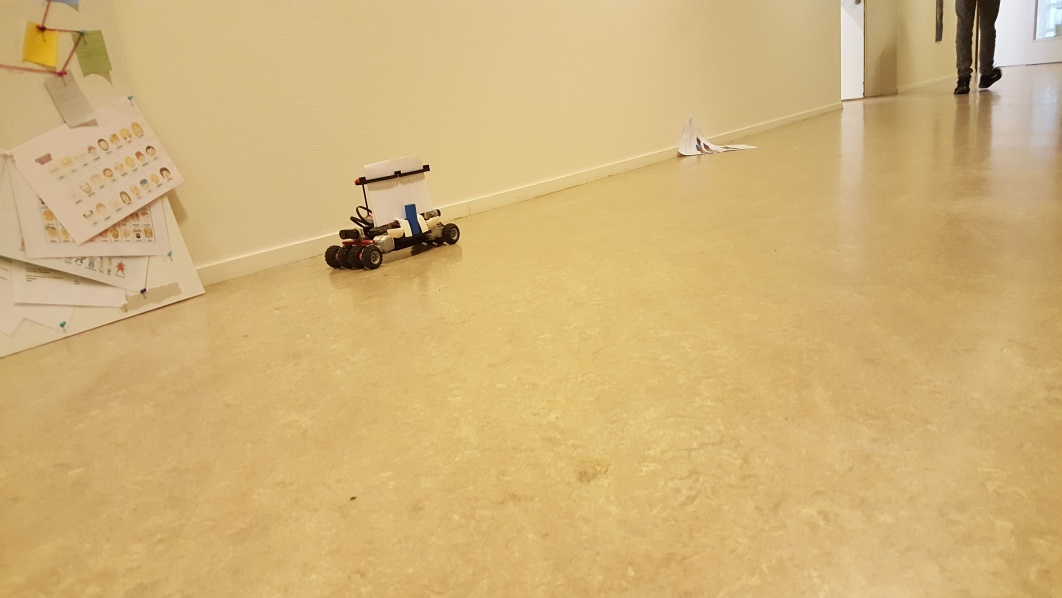beam: (402, 203, 422, 242)
